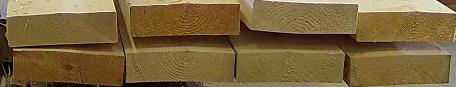Wood-Plank: (250, 0, 359, 36), (6, 12, 117, 47), (13, 51, 124, 85), (126, 52, 235, 83), (126, 5, 238, 34), (237, 51, 344, 81), (349, 56, 449, 84), (358, 11, 451, 41)
